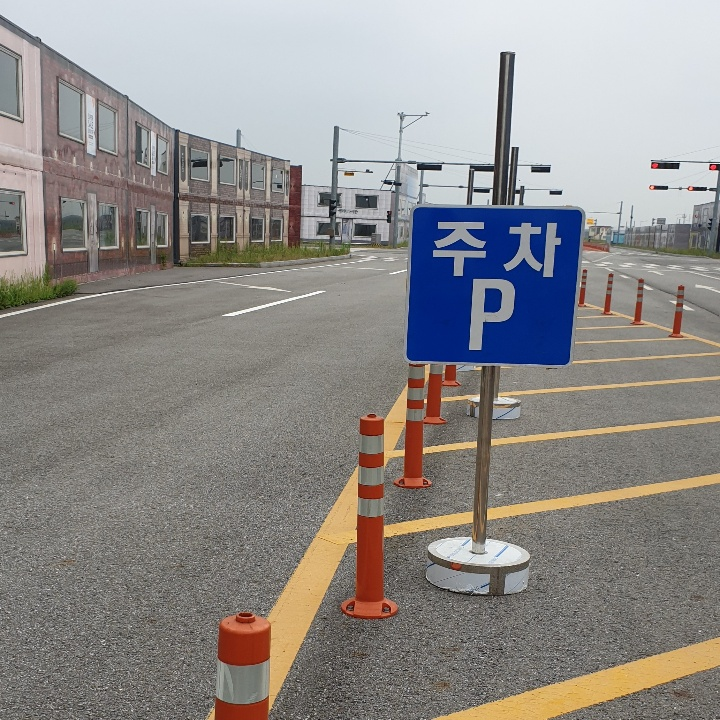parking: (459, 270, 520, 358)
